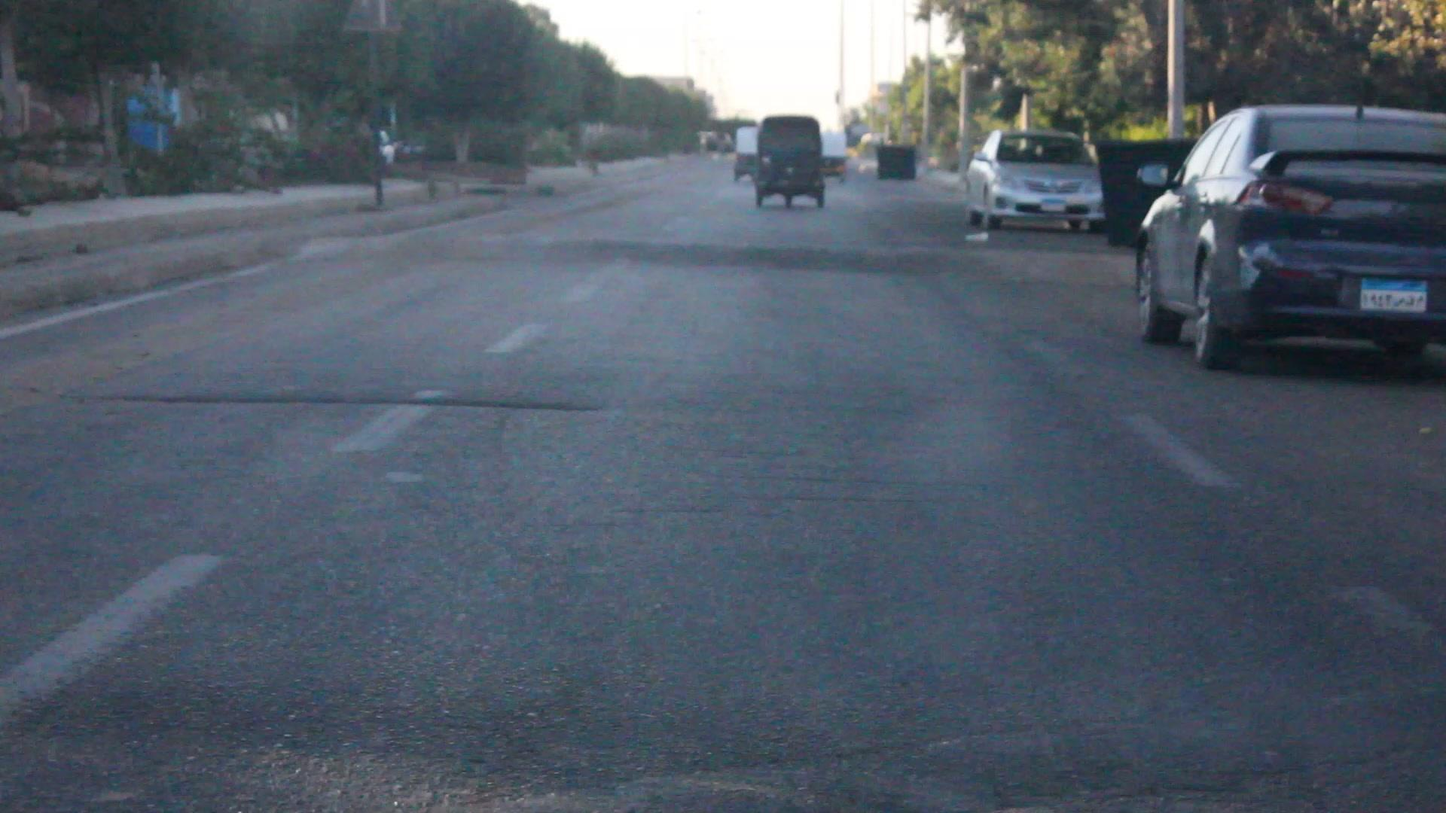Bump: (322, 234, 1136, 290)
